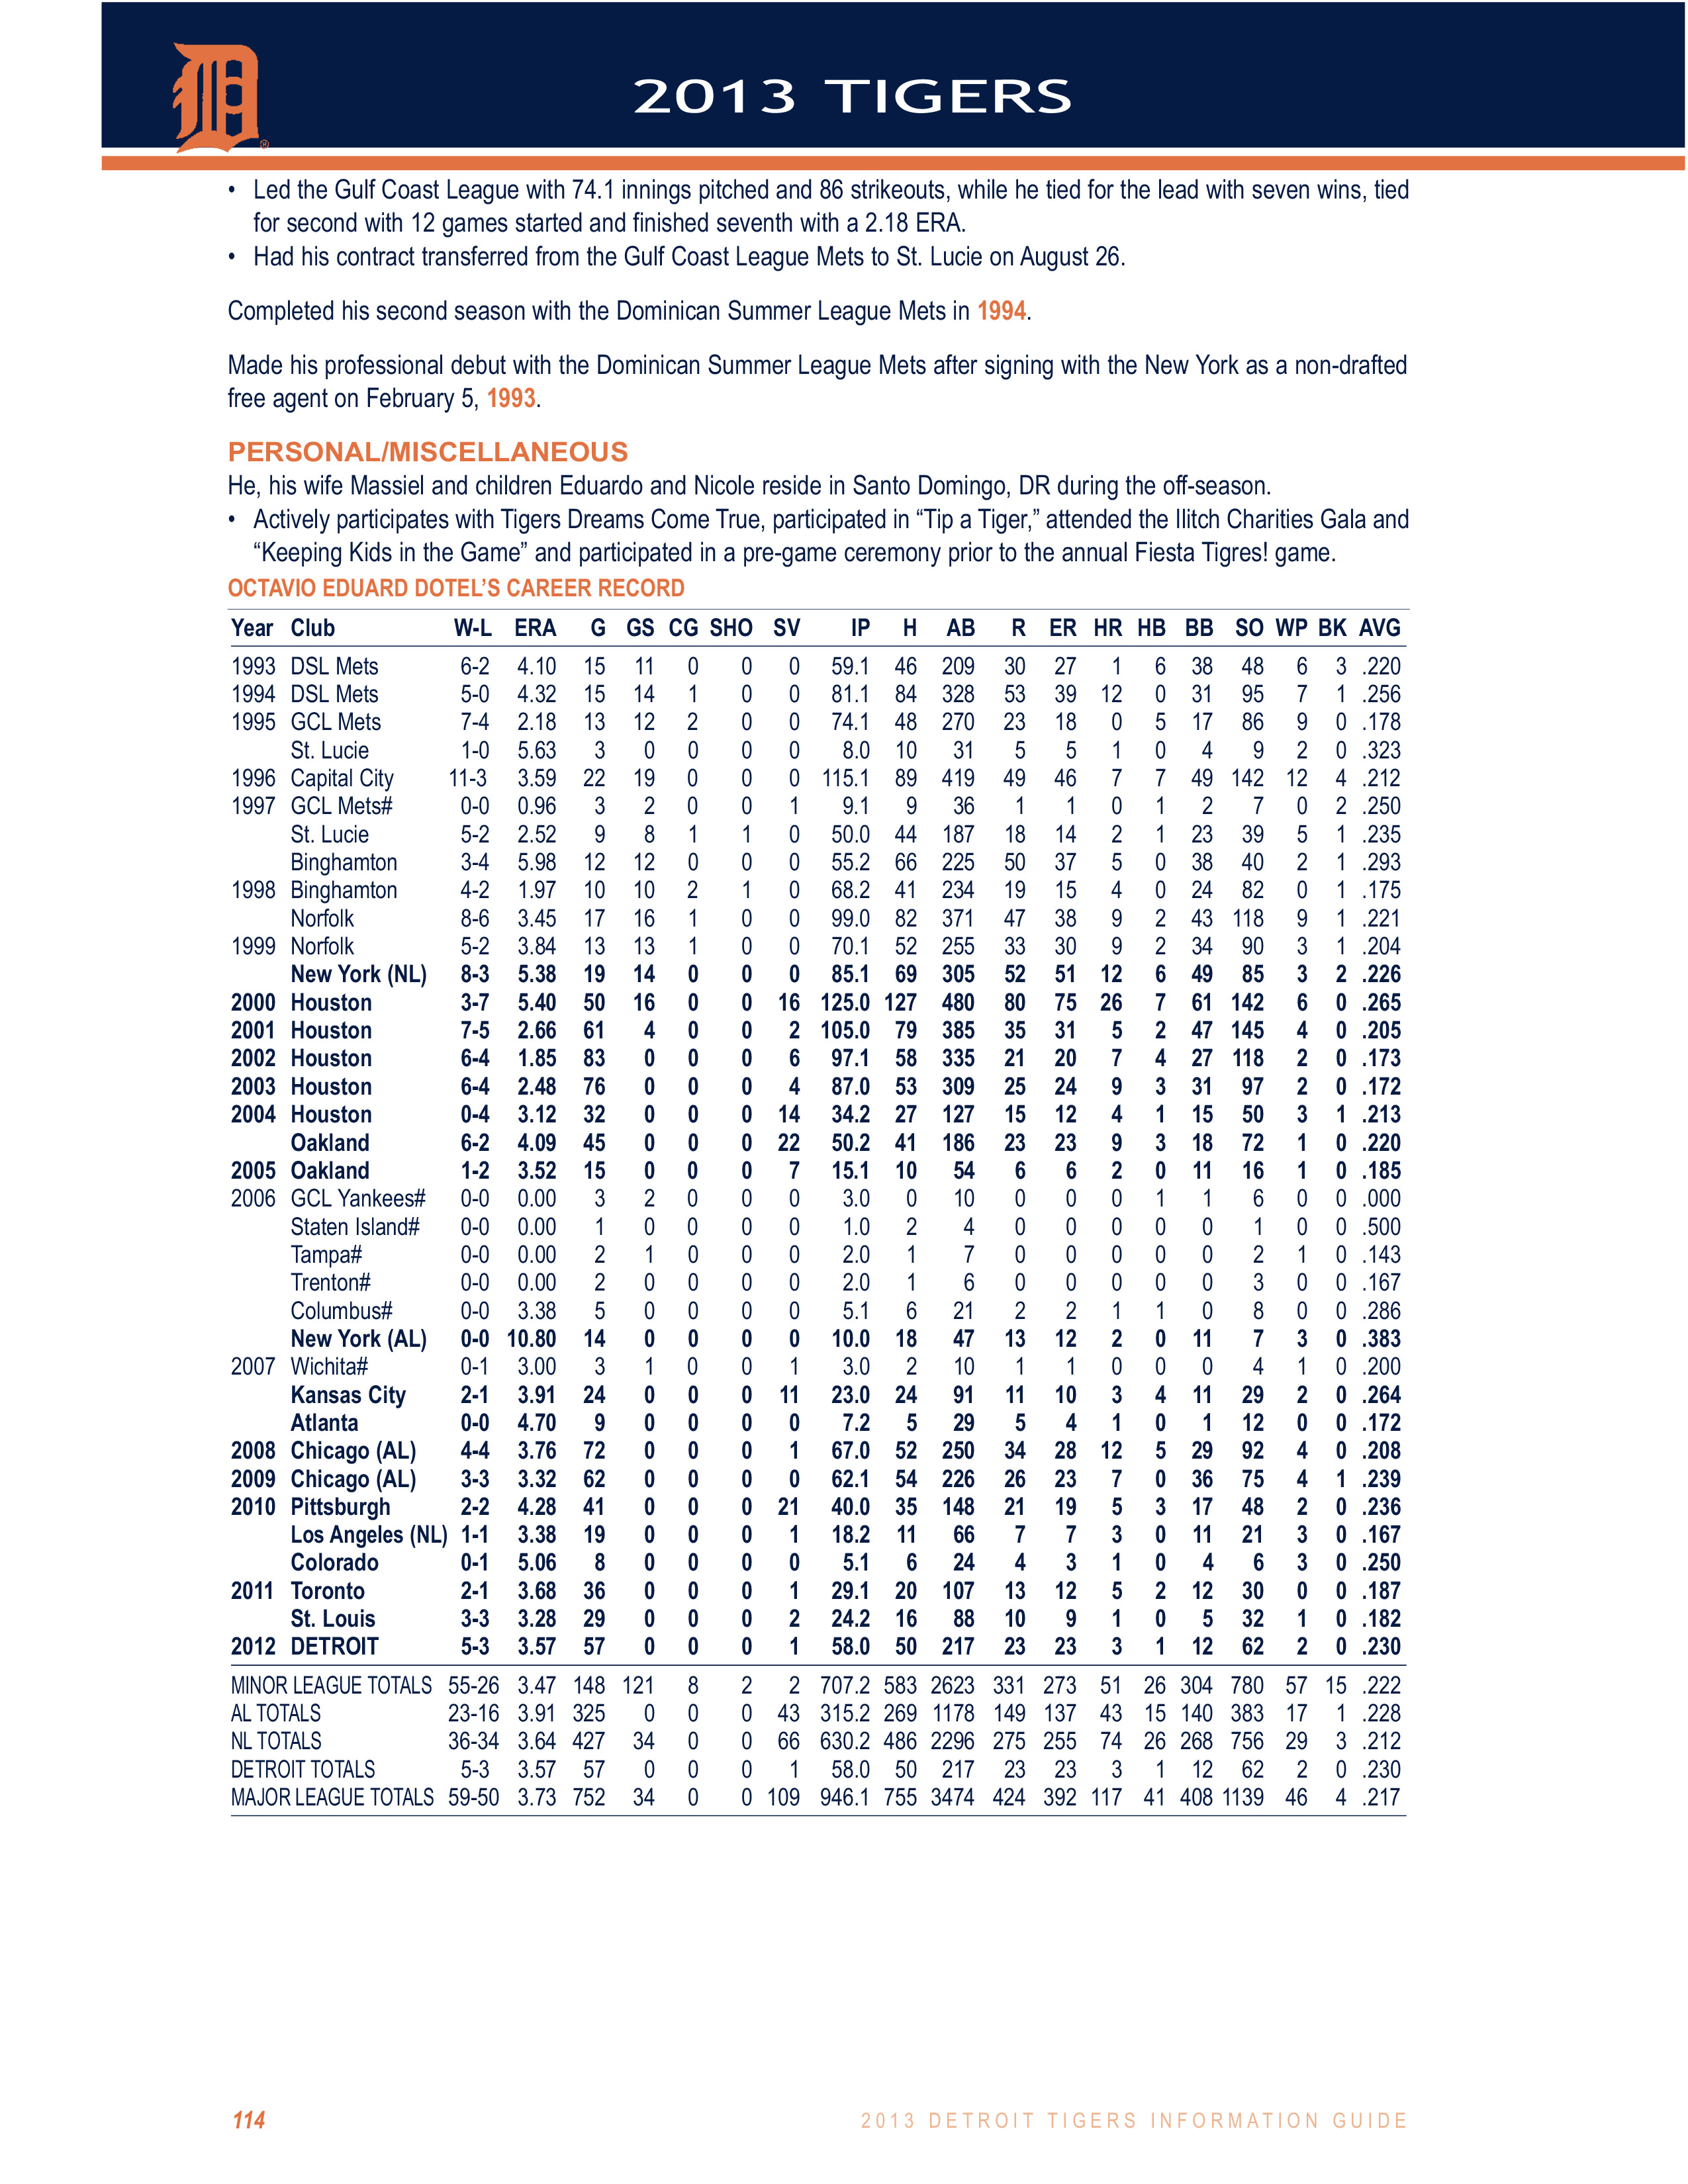figure: (160, 30, 277, 163)
list: (206, 167, 1434, 291), (216, 503, 1429, 569)
section: (622, 64, 1103, 126), (220, 565, 693, 610), (220, 425, 644, 473)
table: (216, 606, 1415, 1828)
text: (209, 342, 1418, 413), (204, 463, 1298, 489), (206, 303, 1005, 333)
